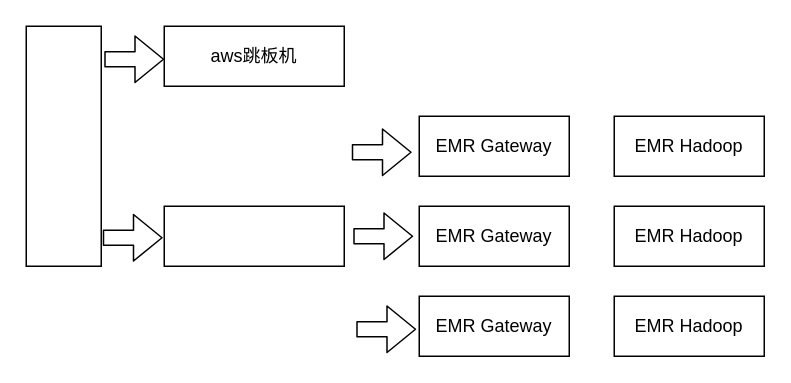
Image size: 791x383. Some labels were removed from this diagram. Each missing label, with the centre of its shape:
"堡垒机" belongs at point 63,145.
"阿里云跳板机" belongs at point 253,235.
